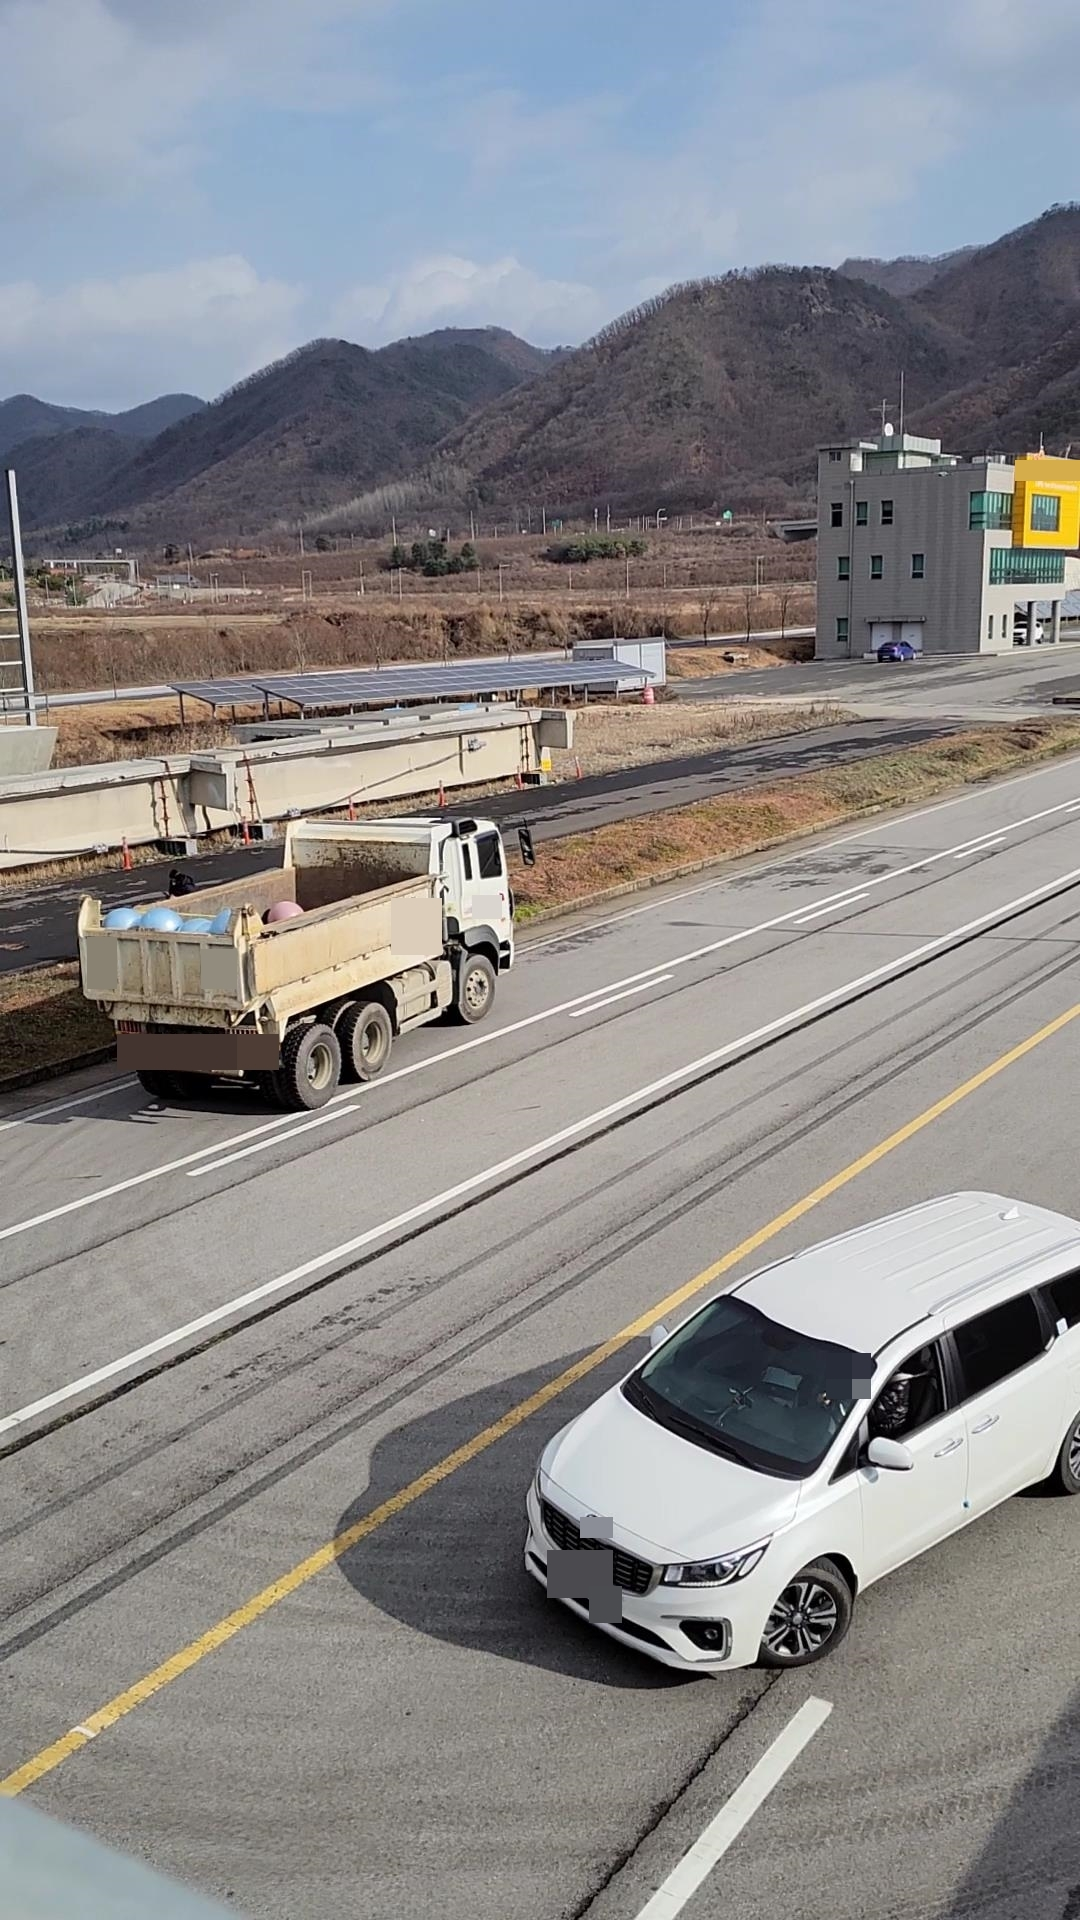불법차량: (78, 815, 535, 1110)
